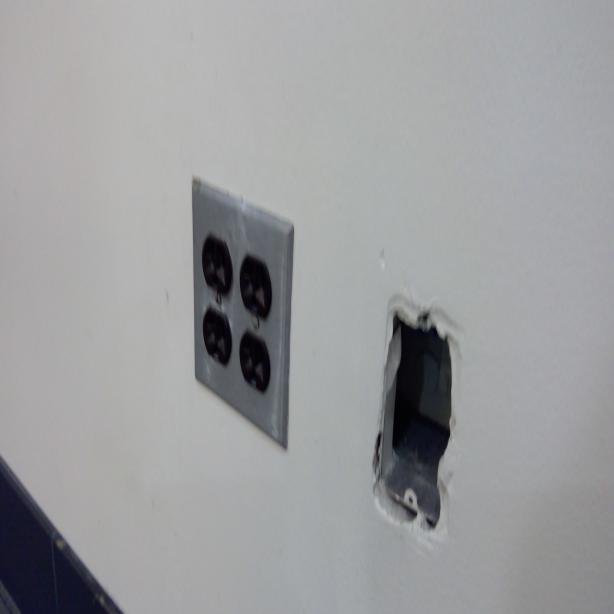typeb: (239, 250, 271, 314), (199, 242, 231, 295), (240, 336, 270, 391), (204, 309, 228, 367)
